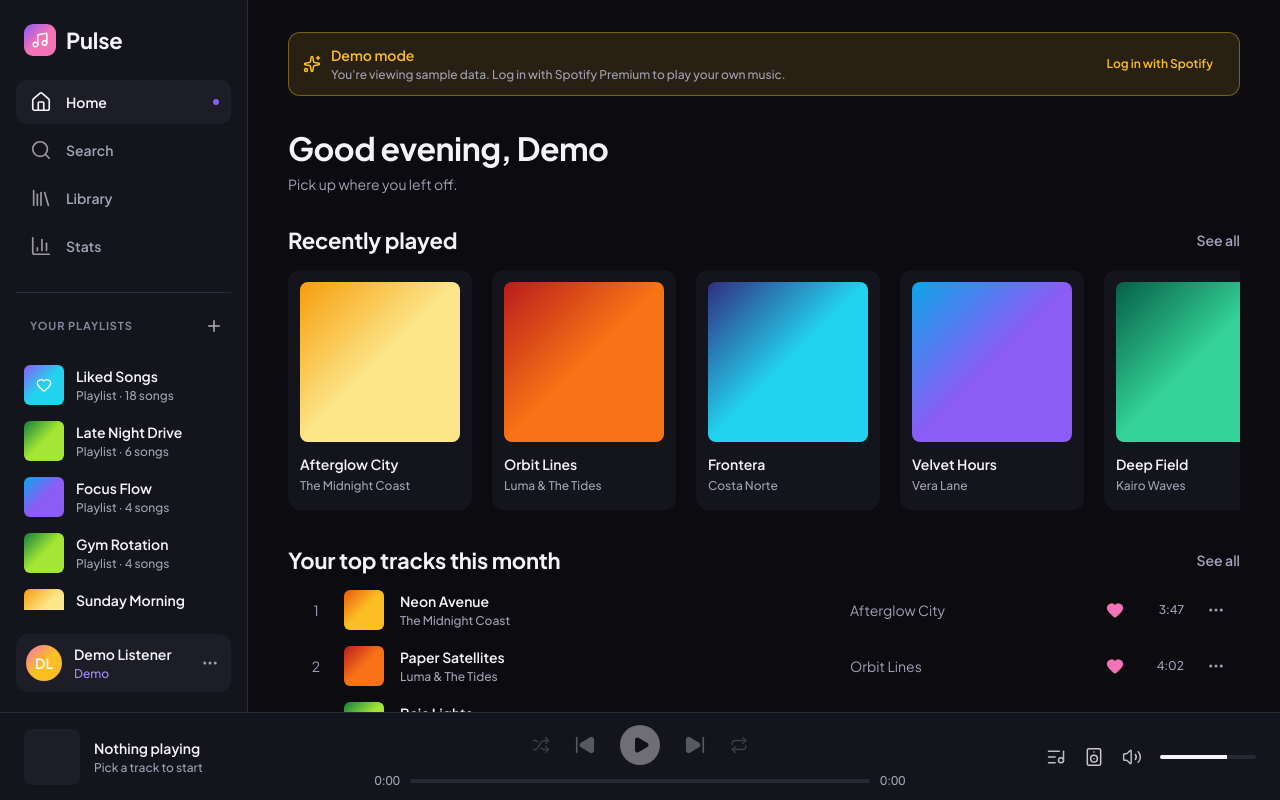
Test: logged-out mode: demo › offers "Log in with Spotify" in the demo account menu
This screenshot has width=1280, height=800.
Step 1. Click the button named "Account menu" → (210,663), box [199,652,221,674]
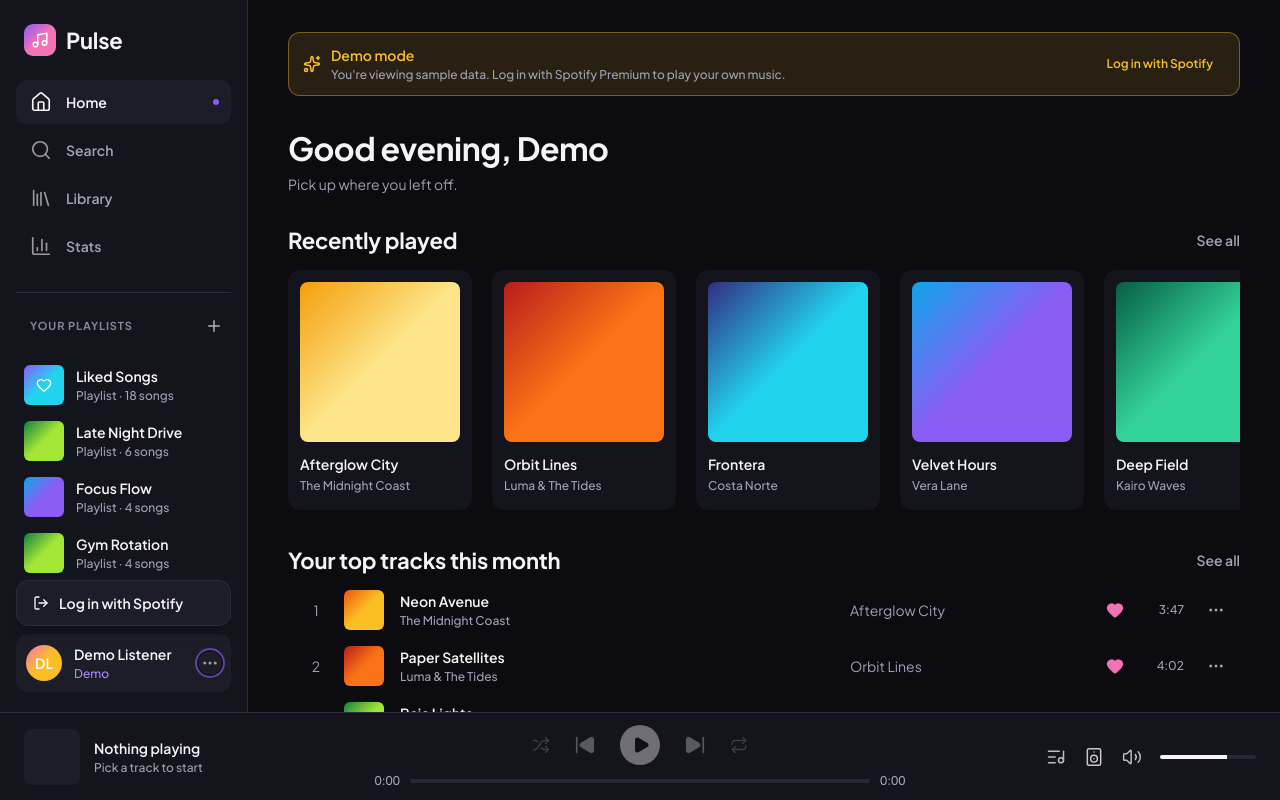
Check: the menu item "Log in with Spotify" is shown, box [21,585,226,621]
